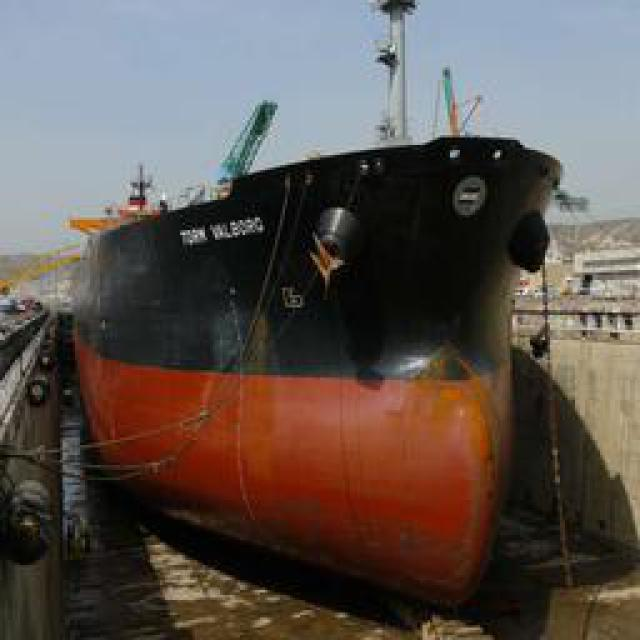Ship: (54, 97, 577, 620)
